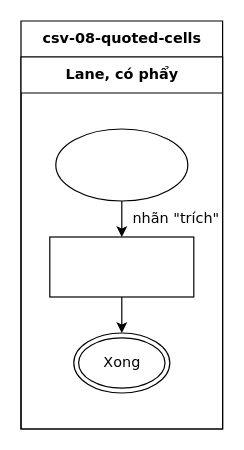
The diagram is 244 pixels wide and 450 high, and some of its shapes have lost their labels. The centre of each missing label's shape, as x and y in pixels:
"có thẻ br" belongs at [121,266].
"Dòng một Dòng hai" belongs at [121,164].
